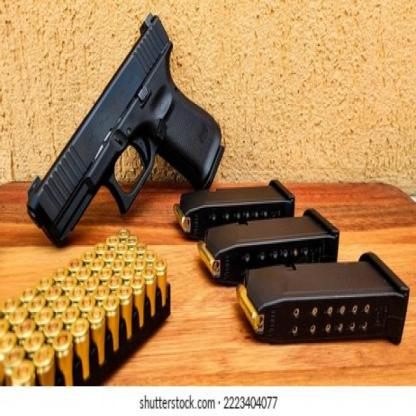handgun: (19, 14, 224, 237)
